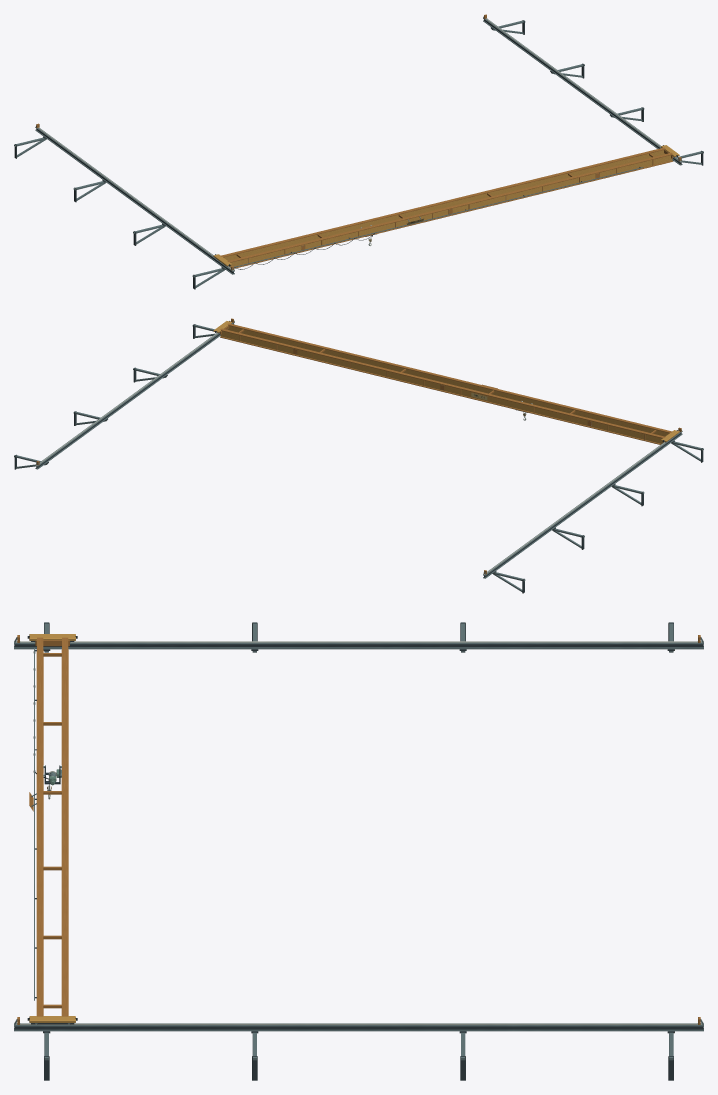
The model's file is workshop_crane.glb.
3 views of the same model, one above another, from view 1: azimuth 30°, elevation 25°; view 2: azimuth 150°, elevation 25°; view 3: azimuth 270°, elevation 25° (orthographic). The views are drawn at different scales.
Parts seen in each view (by area): view 1: TravellingBridge, Runways; view 2: TravellingBridge, Runways; view 3: Runways, TravellingBridge.
Boxes of the visible parts, x1=… form: TravellingBridge: x1=213, y1=145, x2=679, y2=269; Runways: x1=14, y1=14, x2=703, y2=289; TravellingBridge: x1=213, y1=321, x2=679, y2=444; Runways: x1=14, y1=318, x2=703, y2=593; Runways: x1=14, y1=622, x2=703, y2=1080; TravellingBridge: x1=27, y1=634, x2=77, y2=1024.
Bounding box in the file's own units: 69.32 × 2.82 × 46.4.
Materials: 1 (1 with a texture image).
